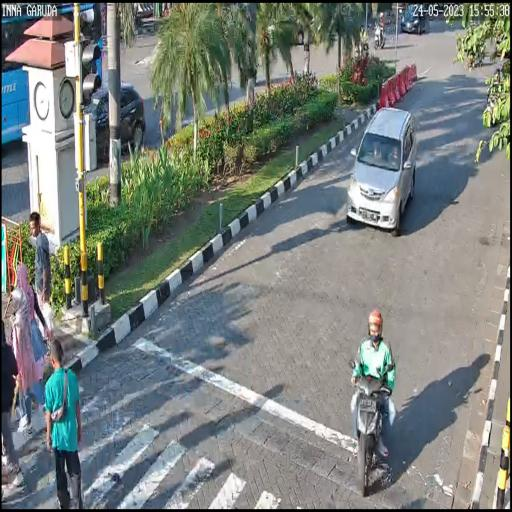mobil: (346, 103, 420, 230)
motor: (349, 356, 397, 496)
